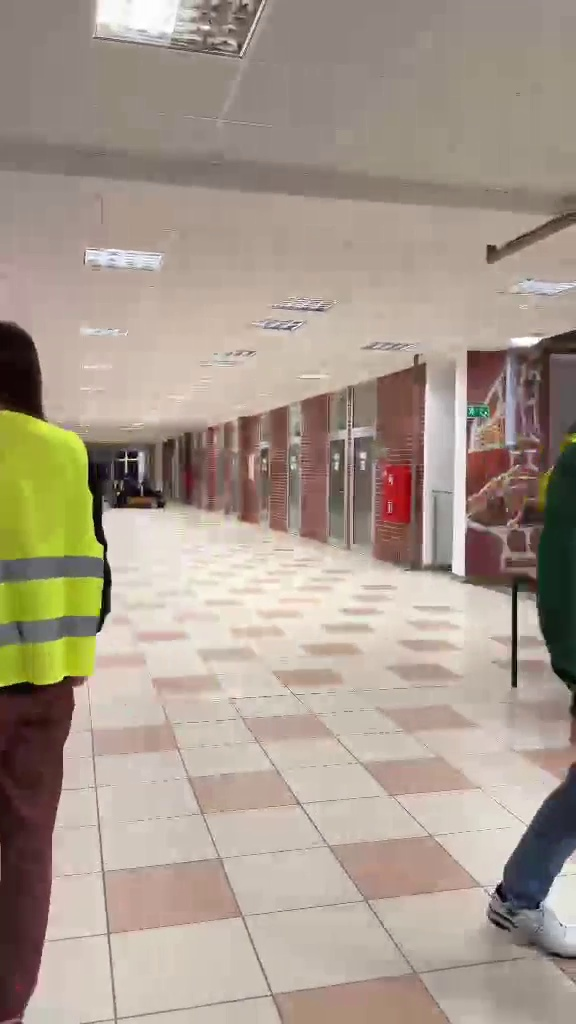vest: (0, 318, 110, 994)
